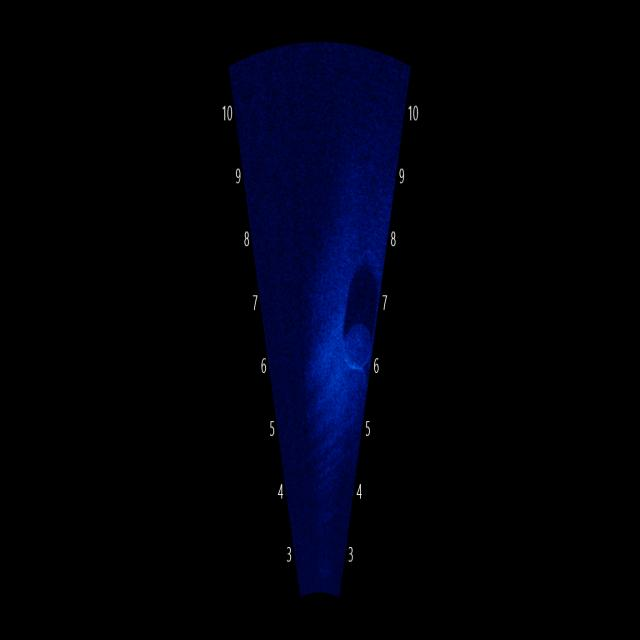circle: (340, 311, 376, 373)
